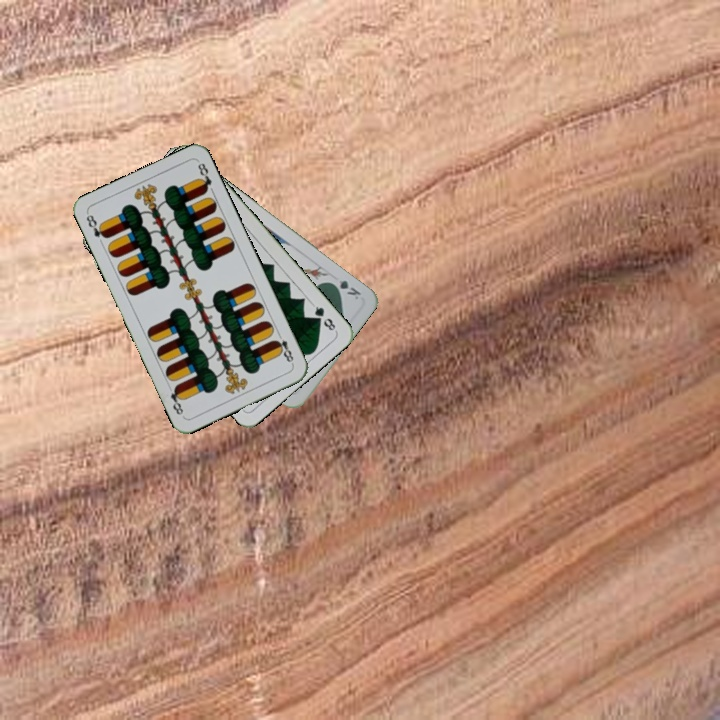E8: (270, 329, 296, 367), (82, 210, 110, 241)
G8: (308, 300, 339, 334)
GK: (326, 276, 363, 302)
